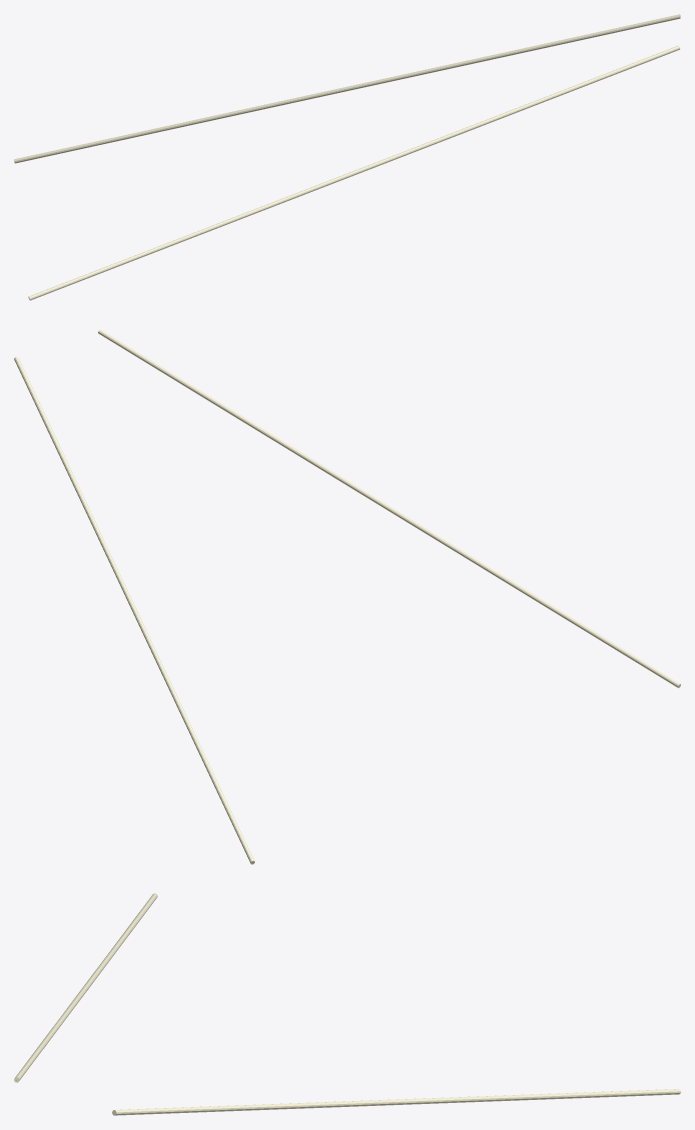
File: tile_182.glb
3 views of the same model, one above another, from view 1: azimuth 30°, elevation 25°; view 2: azimuth 150°, elevation 25°; view 3: azimuth 270°, elevation 25° (orthographic). The views are drawn at different scales.
Bounding box in the file's own units: 41.15 × 12.97 × 29.42.
